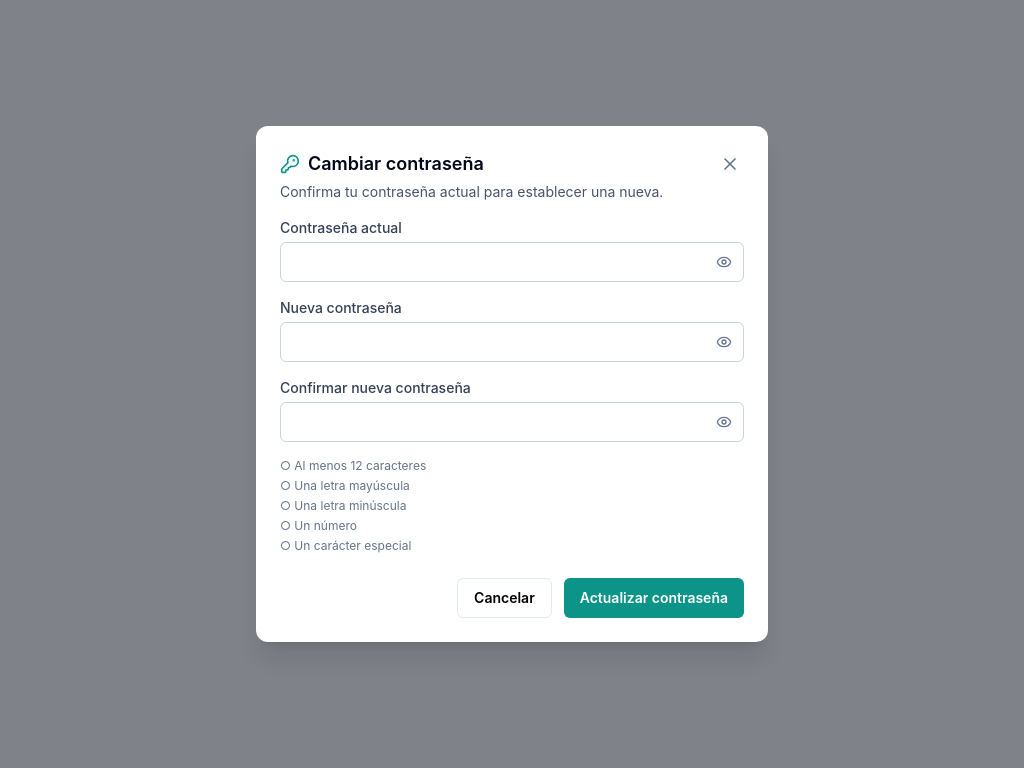
Test: ChangePasswordDialog › shows password fields and validates mismatched confirmation without a request
Click the button named "Mostrar contraseña actual" at {"x": 724, "y": 262}, box [704,242,744,282]
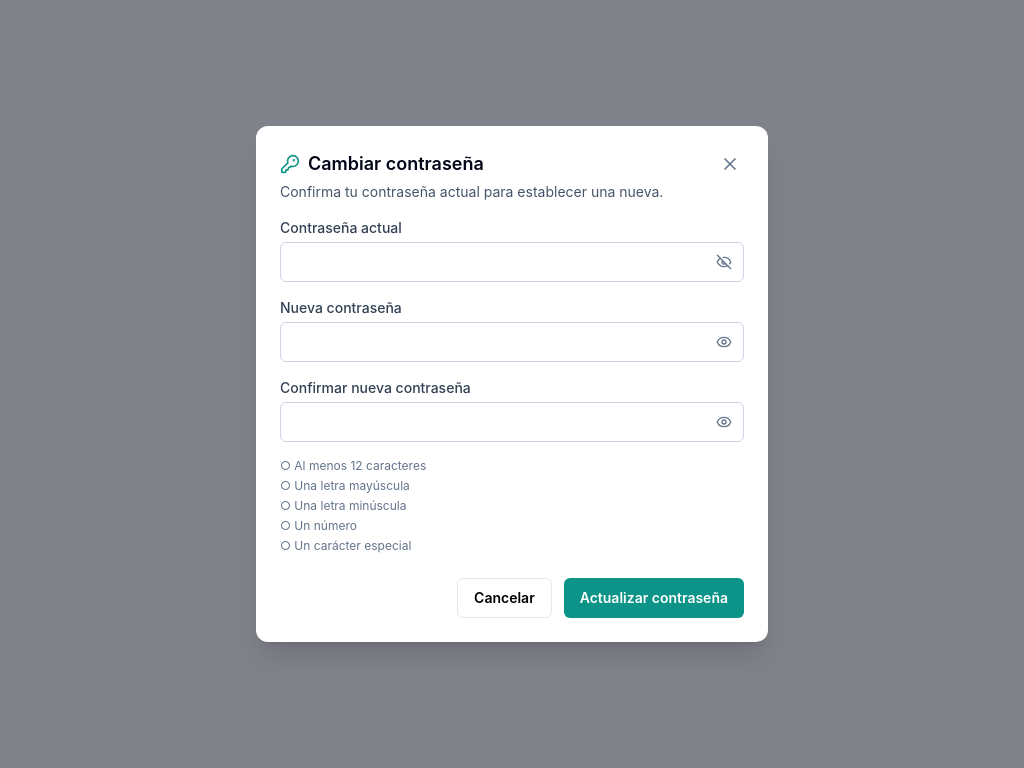
Type "Actual.Clave2026!" into the field labelled "Contraseña actual" at {"x": 512, "y": 262}, box [280,242,744,282]
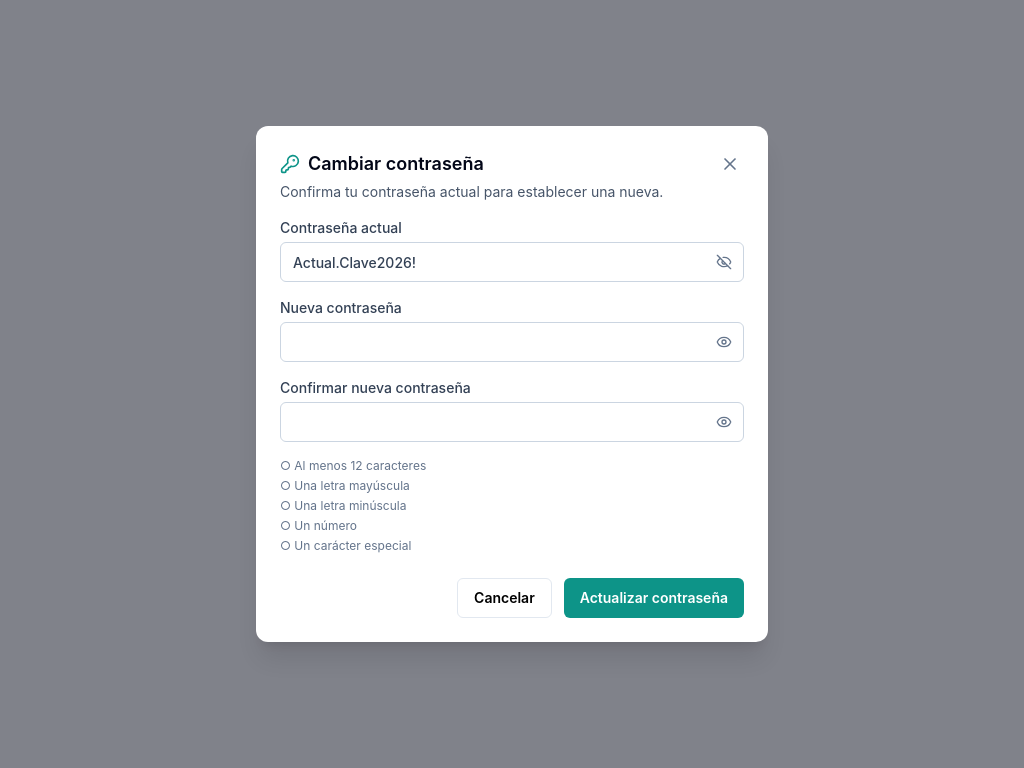
Type "Nueva.Clave2026!" into the password field labelled "Nueva contraseña" at {"x": 512, "y": 342}, box [280,322,744,362]
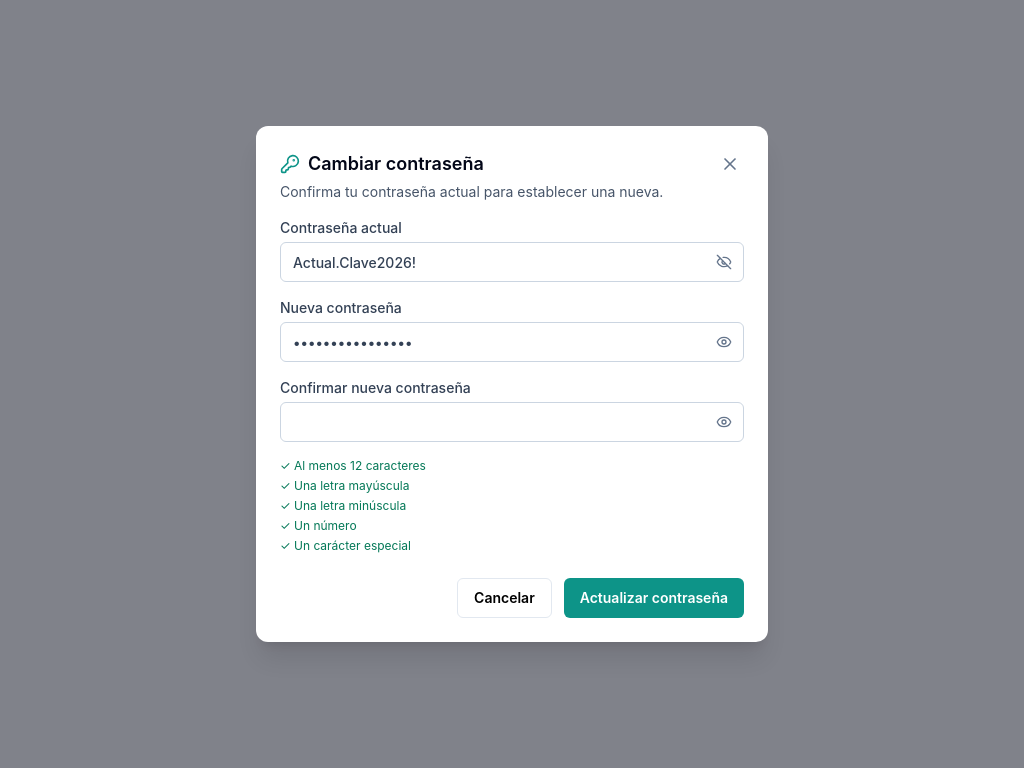
Type "Otra.Clave2026!" into the password field labelled "Confirmar nueva contraseña" at {"x": 512, "y": 422}, box [280,402,744,442]
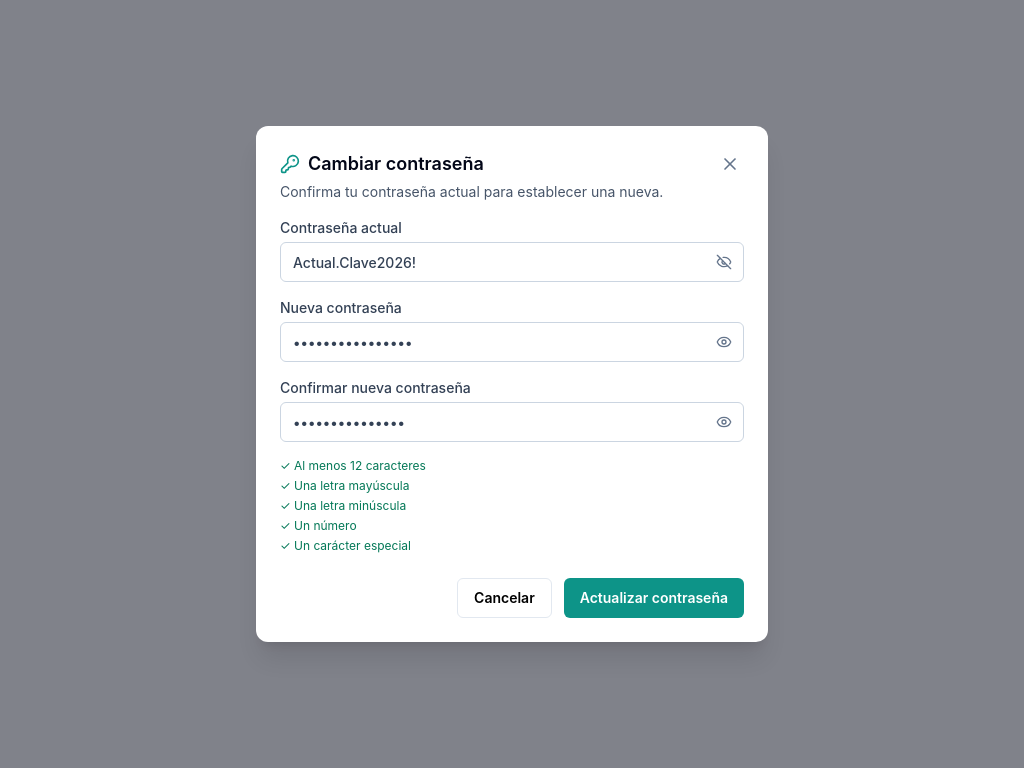
Click the button "Actualizar contraseña" at {"x": 654, "y": 598}, box [564,578,744,618]
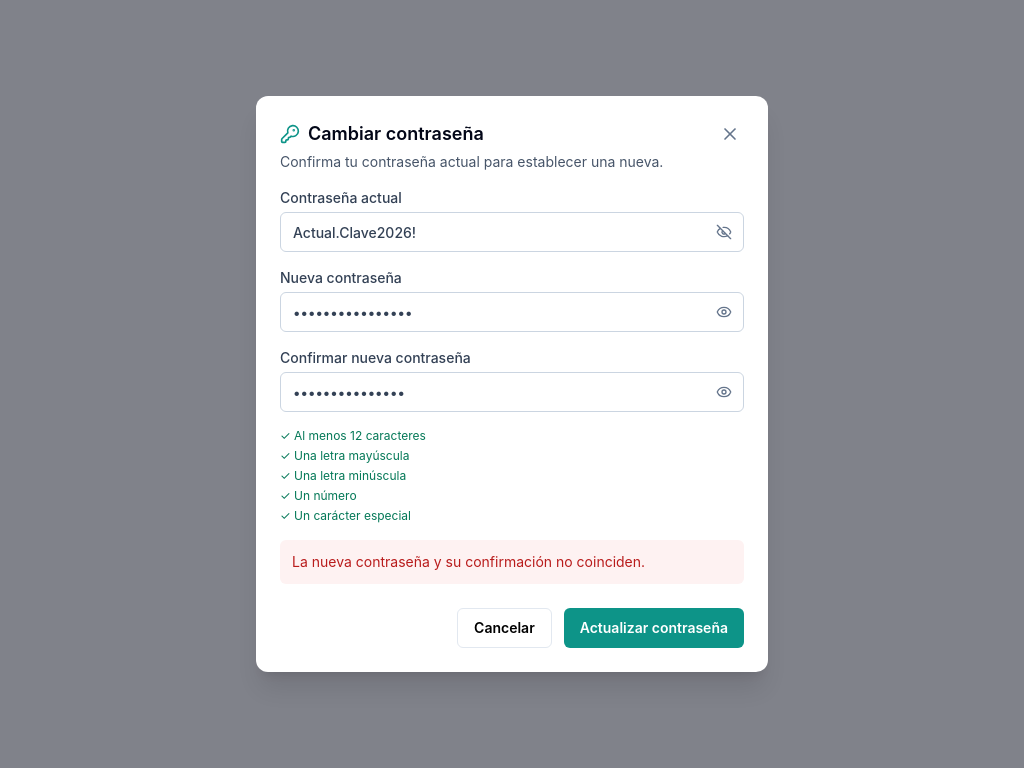
Expected: the text "La nueva contraseña y su confirmación no coinciden." is shown, [280,540,744,584]
